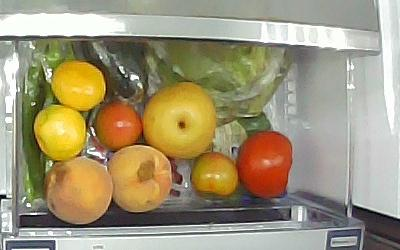peach: (105, 141, 172, 212)
pear: (140, 80, 217, 159), (41, 154, 112, 224)
tangerine: (49, 57, 105, 111), (31, 105, 85, 158)
tomato: (234, 129, 293, 199), (92, 99, 142, 150), (189, 149, 239, 199)
